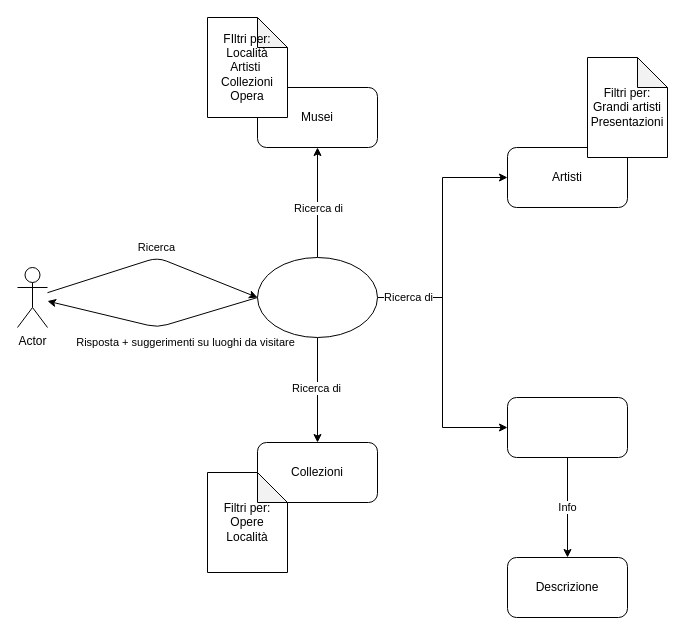
The diagram is 685 pixels wide and 635 high, and some of its shapes have lost their labels. The centre of each missing label's shape, as x and y in pixels:
"Opere" goes at (567,427).
"Sistema" goes at (317,297).
